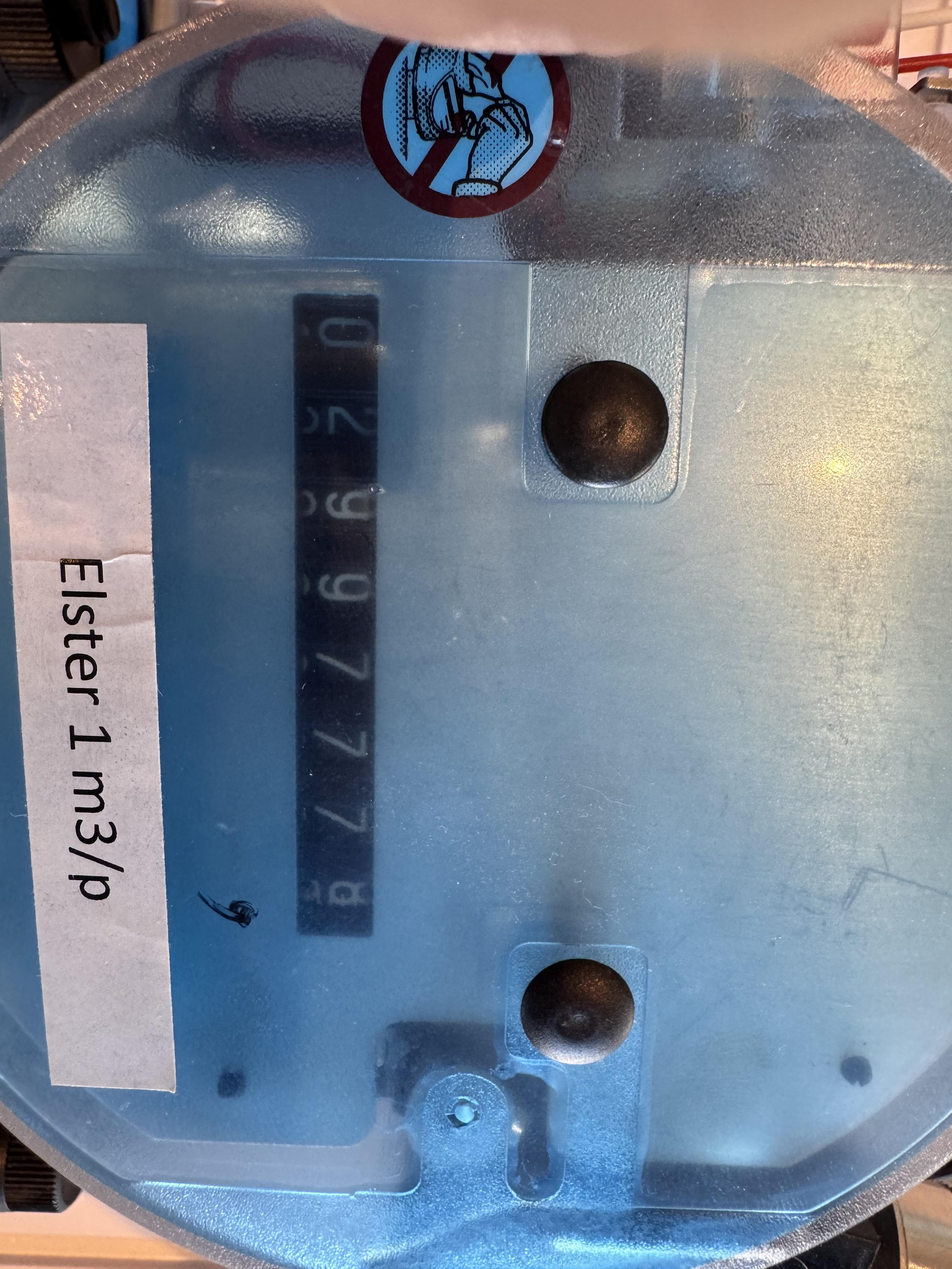analog_dial: (209, 286, 387, 942)
